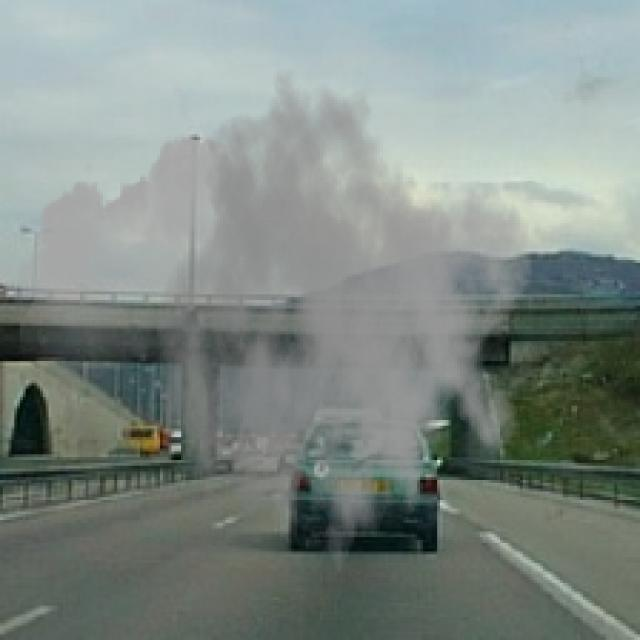smoke: (12, 69, 534, 597)
